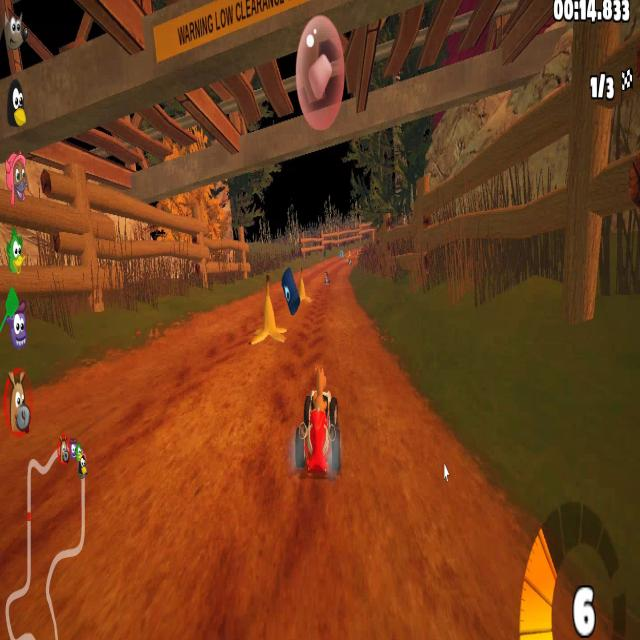obstacle: (258, 273, 284, 350), (298, 272, 312, 314)
track: (76, 361, 292, 640), (295, 482, 509, 640), (342, 396, 469, 484), (134, 323, 254, 362), (288, 319, 378, 362), (342, 363, 413, 397), (316, 261, 352, 289), (212, 302, 255, 316), (322, 293, 357, 310), (330, 256, 359, 270), (349, 243, 365, 250)
